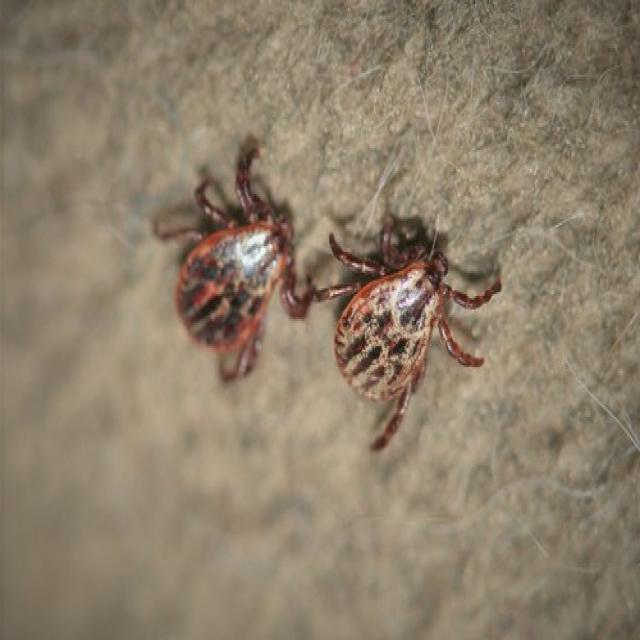Dermacentor Reticulatus-M: (315, 229, 502, 452), (152, 138, 306, 382)
